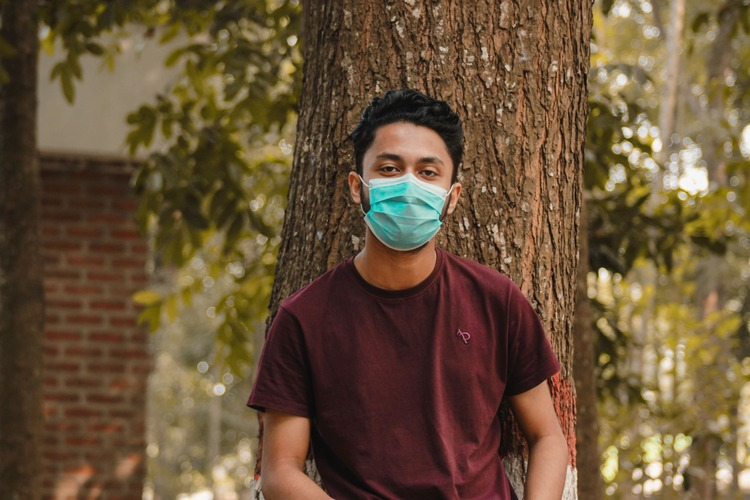with_mask: (356, 134, 448, 244)
